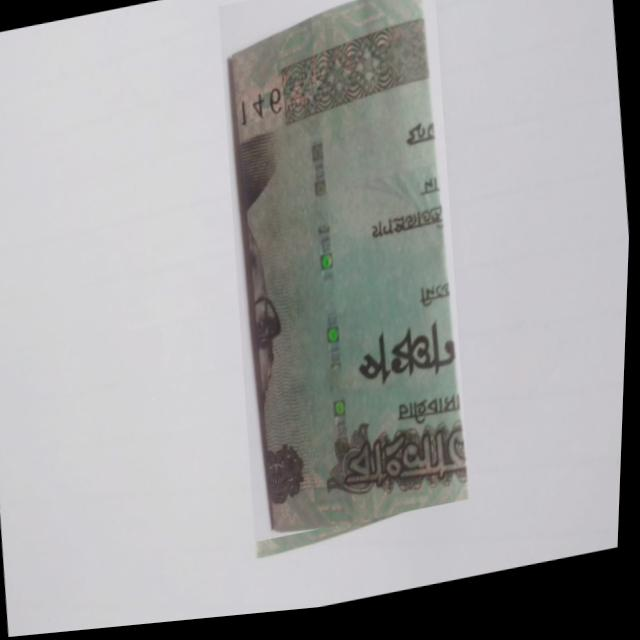Taka: (202, 0, 489, 551)
